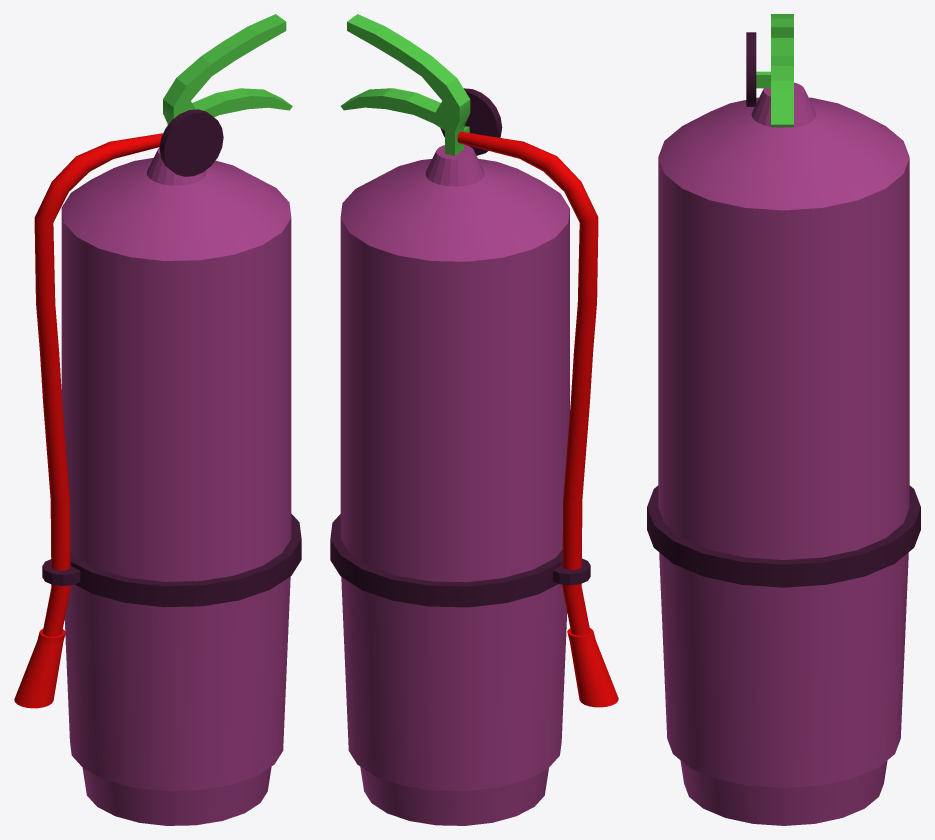
File: 3D_Extintor.fbx
3 renders of one model, left to right at view 1: azimuth 30°, elevation 25°; view 2: azimuth 150°, elevation 25°; view 3: azimuth 270°, elevation 25°, orthographic. The views are drawn at different scales.
Visible parts, largest first — view 1: Extintor; view 2: Extintor; view 3: Extintor.
Boxes of the visible parts, box(x1,y1,x2,y2) form: Extintor: box(14, 14, 301, 825); Extintor: box(330, 14, 618, 825); Extintor: box(647, 14, 920, 825).
Size of the model in its own units: 41.7 by 110 by 33.55.
